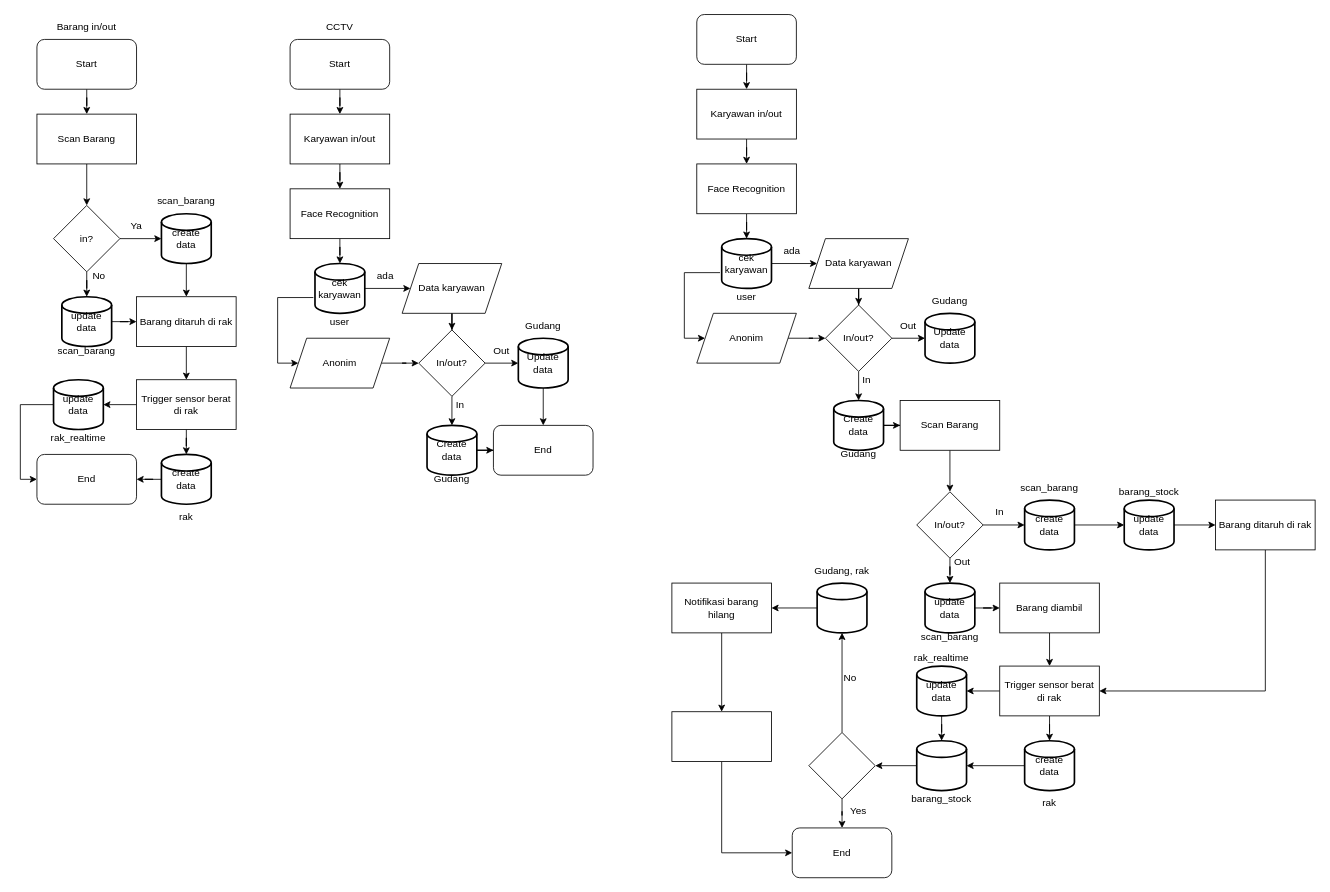
This 1330x892 diagram has some shape labels left out. The centre of each missing label's shape, as x and y in pixels:
"balance?" belongs at point 841,765.
"Cek berat" belongs at point 941,765.
"Cek data jam" belongs at point 841,607.
"suspect maling" belongs at point 721,736.
